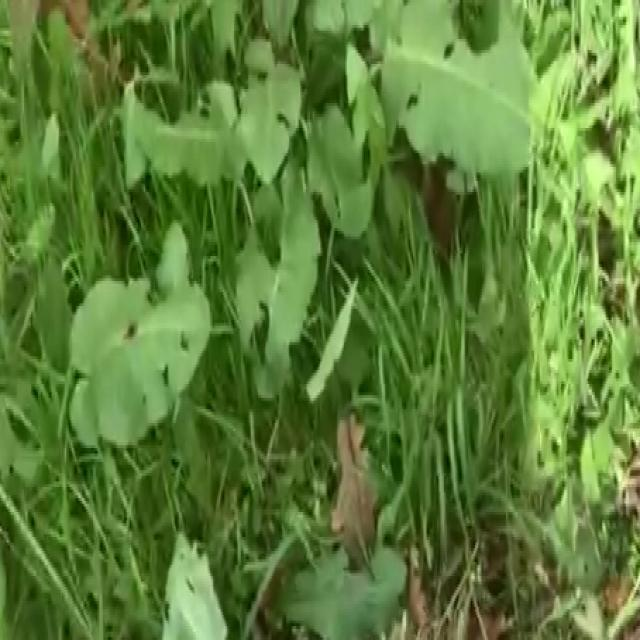organic waste: (112, 0, 582, 317), (62, 267, 272, 495), (215, 478, 507, 640)
